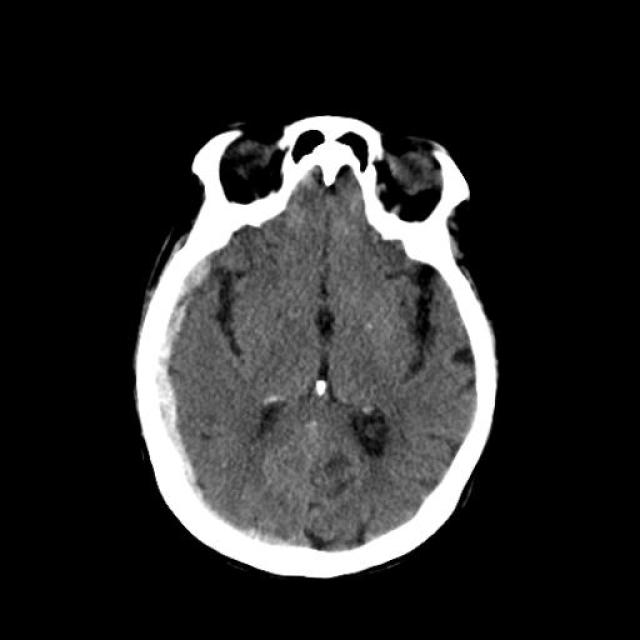Subdural: (139, 250, 219, 510)
